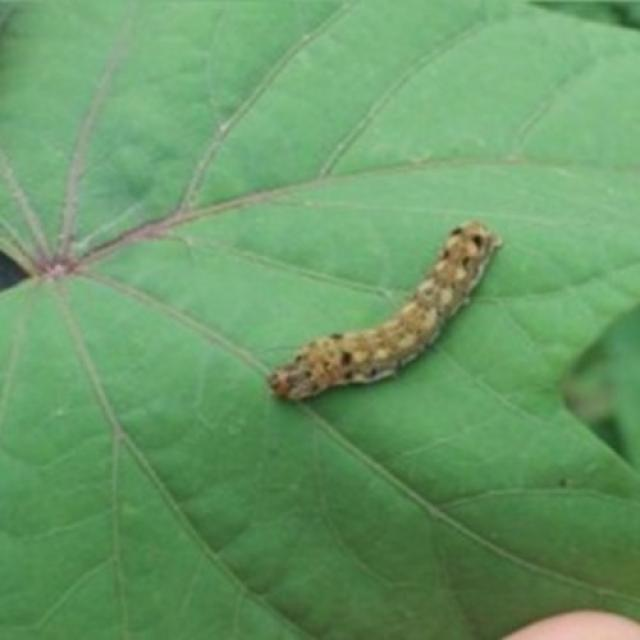armyworm: (265, 218, 503, 404)
